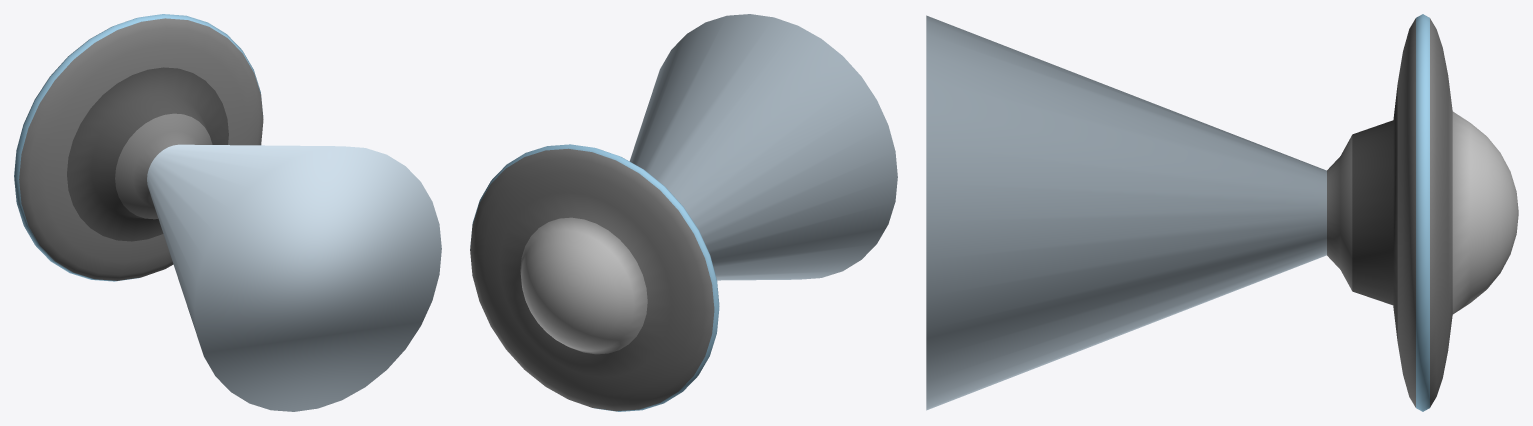
File: UFO.fbx
3 renders of one model, left to right at view 1: azimuth 30°, elevation 25°; view 2: azimuth 150°, elevation 25°; view 3: azimuth 270°, elevation 25°, orthographic. The views are drawn at different scales.
Visible parts, largest first — view 1: UFO; view 2: UFO; view 3: UFO.
Boxes of the visible parts, bbox=[...] form: UFO: bbox=[14, 14, 441, 411]; UFO: bbox=[470, 14, 897, 411]; UFO: bbox=[926, 14, 1518, 411].
Bounding box in the file's own units: 42977 × 42977 × 63933.
